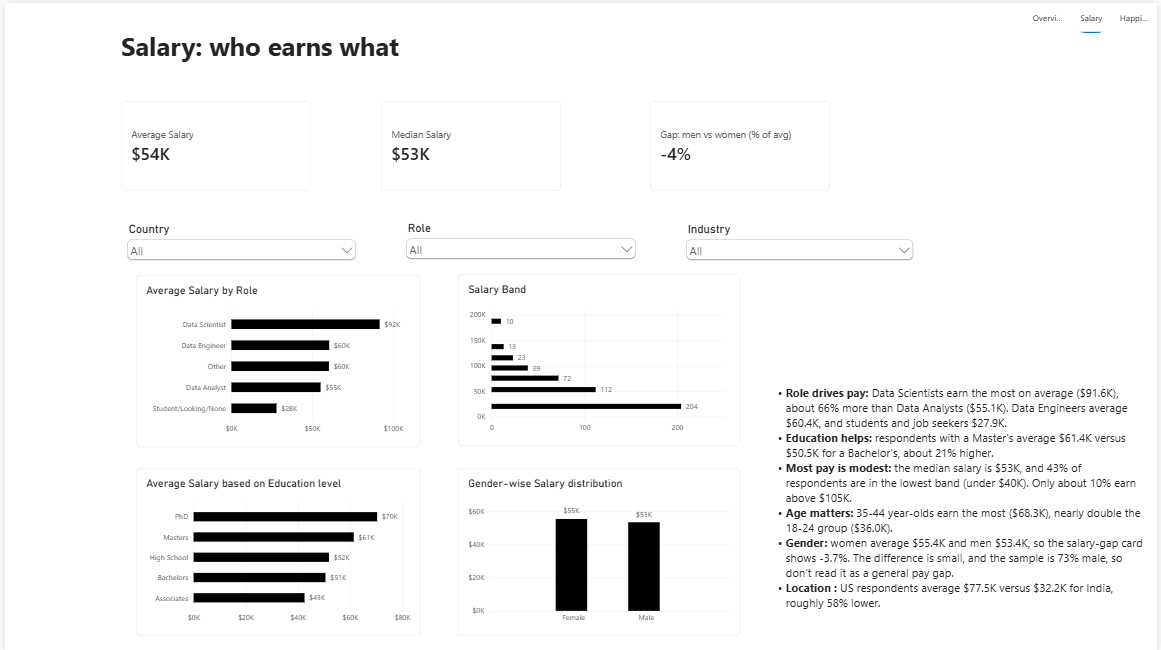

The page's visual inventory and layout, read from the dashboard file:
{"tool":"powerbi","page":{"name":"Salary","canvas":[1920,1080],"ordinal":1},"visuals":[{"type":"textbox","box":[193.3,41.7,1726.7,101.7],"z":0},{"type":"slicer","fields":{"Values":["Data Professional Survey.Country"]},"box":[198.3,365,391.7,75],"z":1000},{"type":"slicer","fields":{"Values":["Data Professional Survey.Role"]},"box":[663.1,363.3,393.3,75],"z":2000},{"type":"slicer","fields":{"Values":["Data Professional Survey.Industry"]},"box":[1129.6,365.4,389.2,74.1],"z":3000},{"type":"cardVisual","fields":{"Data":["Measures (2).Average Salary"]},"box":[193.3,163.3,316.7,150],"z":4000},{"type":"cardVisual","fields":{"Data":["Measures (2).Median Salary"]},"box":[626.7,163.3,300,150],"z":5000},{"type":"cardVisual","fields":{"Data":["Measures (2).% Salary gap"]},"box":[1075,163.3,300,150],"z":6000},{"type":"clusteredBarChart","title":"Salary Band","fields":{"Category":["Data Professional Survey.Average Salary"],"Y":["Measures (2).Total respondents"]},"box":[755.5,452.5,470,286.7],"z":7000},{"type":"clusteredBarChart","title":"Average Salary by Role","fields":{"Category":["Data Professional Survey.Role"],"Y":["Measures (2).Average Salary"]},"box":[218.3,453.3,475,286.7],"z":8000},{"type":"clusteredBarChart","title":"Average Salary based on Education level","fields":{"Category":["Data Professional Survey.Education"],"Y":["Measures (2).Average Salary"]},"box":[218.3,775,475,280],"z":9000},{"type":"clusteredColumnChart","title":"Gender-wise Salary distribution","fields":{"Category":["Data Professional Survey.Gender"],"Y":["Measures (2).Average Salary"]},"box":[755.5,774.3,470,280.1],"z":10000},{"type":"pageNavigator","box":[1703.3,0,216.7,50],"z":11000},{"type":"textbox","box":[0,18,1727,150],"z":13000},{"type":"textbox","box":[1273.3,636.7,623.3,418.3],"z":13001}]}

Visuals, with their boxes in screenshot pixels (x1, y1, x2, y2), scaled from the page's 1920x1080 canvas onto the 1161x650 screenshot:
textbox: (x1=117, y1=25, x2=1160, y2=86)
slicer - Data Professional Survey.Country: (x1=120, y1=220, x2=357, y2=265)
slicer - Data Professional Survey.Role: (x1=401, y1=219, x2=639, y2=264)
slicer - Data Professional Survey.Industry: (x1=683, y1=220, x2=918, y2=265)
cardVisual - Measures (2).Average Salary: (x1=117, y1=98, x2=308, y2=189)
cardVisual - Measures (2).Median Salary: (x1=379, y1=98, x2=560, y2=189)
cardVisual - Measures (2).% Salary gap: (x1=650, y1=98, x2=831, y2=189)
"Salary Band" clusteredBarChart: (x1=457, y1=272, x2=741, y2=445)
"Average Salary by Role" clusteredBarChart: (x1=132, y1=273, x2=419, y2=445)
"Average Salary based on Education level" clusteredBarChart: (x1=132, y1=466, x2=419, y2=635)
"Gender-wise Salary distribution" clusteredColumnChart: (x1=457, y1=466, x2=741, y2=635)
pageNavigator: (x1=1030, y1=0, x2=1160, y2=30)
textbox: (x1=0, y1=11, x2=1044, y2=101)
textbox: (x1=770, y1=383, x2=1147, y2=635)
